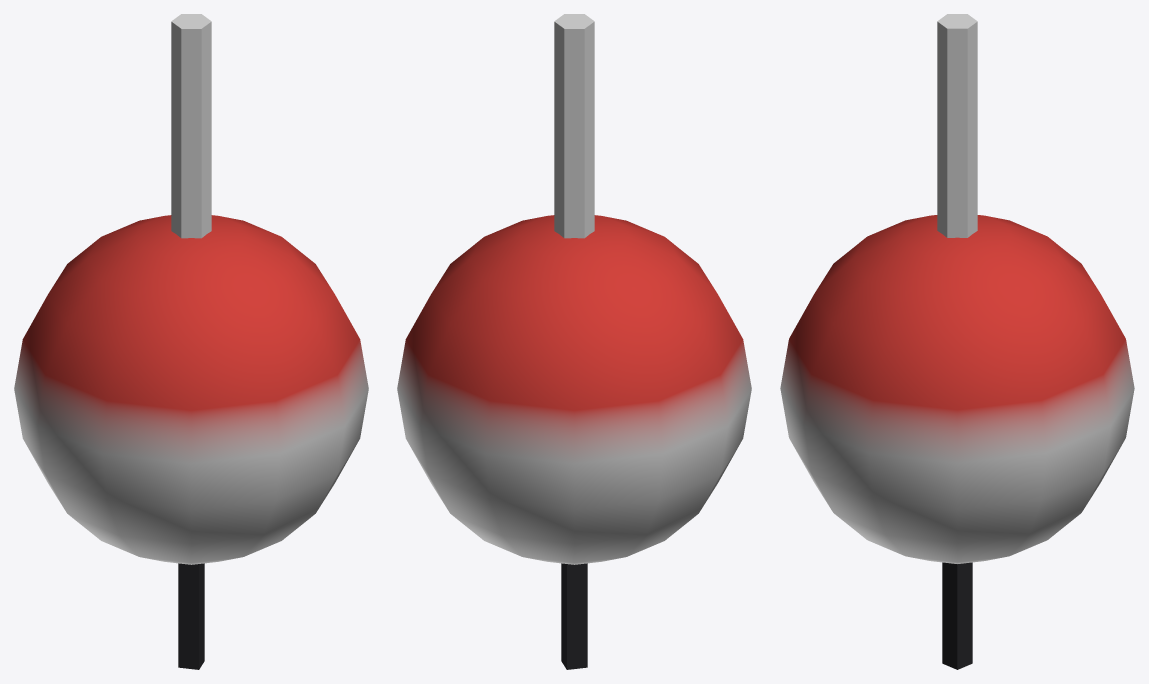
Rendered from bobber.glb.
3 renders of one model, left to right at view 1: azimuth 30°, elevation 25°; view 2: azimuth 150°, elevation 25°; view 3: azimuth 270°, elevation 25°, orthographic.
Visible parts, largest first — view 1: bobber; view 2: bobber; view 3: bobber.
Boxes of the visible parts, x1,y1,x2,y2 form: bobber: [14, 14, 368, 669]; bobber: [397, 14, 751, 669]; bobber: [780, 14, 1134, 669].
Size of the model in its own units: 0.14 by 0.28 by 0.14.
